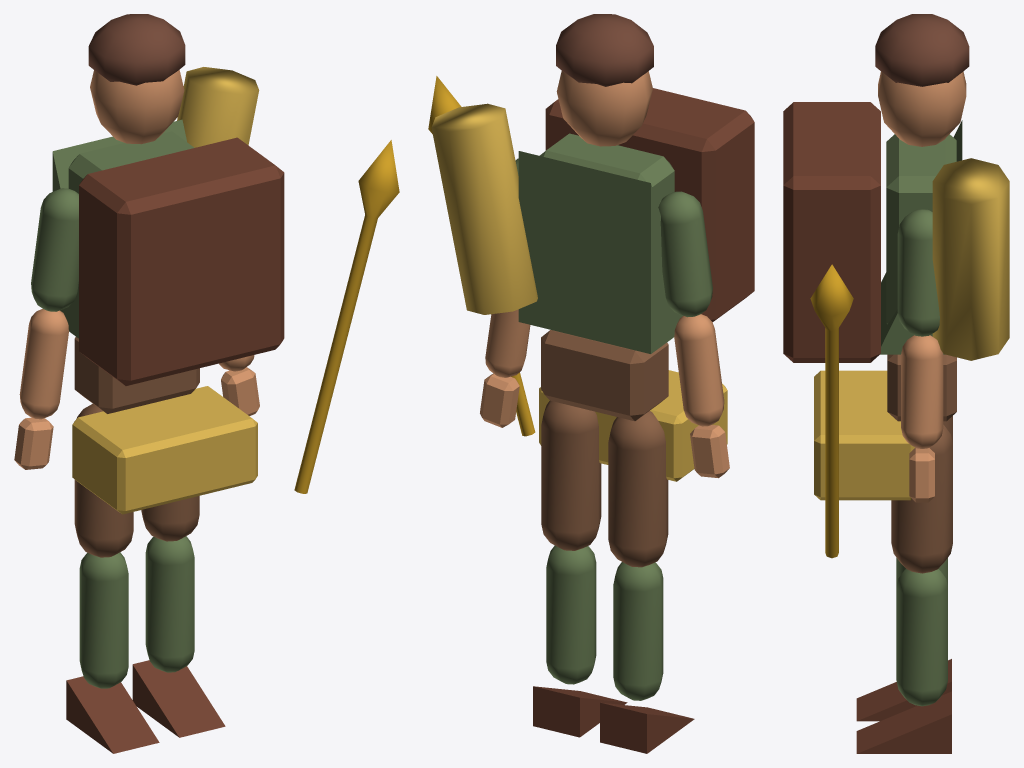
File: adventurer.rustic.glb
3 views of the same model, side by side, from view 1: azimuth 30°, elevation 25°; view 2: azimuth 150°, elevation 25°; view 3: azimuth 270°, elevation 25° (orthographic).
Parts seen in each view (by area): view 1: accessory.body, accessory.waist, shin.left, shin.right, accessory.main-hand, hair, accessory.back, upper-arm.left, head, foot.left, foot.right, forearm.left (+7 smaller); view 2: tunic, accessory.body, accessory.back, pelvis, thigh.left, thigh.right, shin.right, shin.left, hair, upper-arm.left, head, forearm.left (+8 smaller); view 3: accessory.body, accessory.back, accessory.waist, shin.right, hair, thigh.right, torso, accessory.main-hand, head, upper-arm.right, forearm.right, foot.right (+4 smaller).
Boxes of the visible parts, x1=… form: accessory.body: x1=79, y1=137, x2=284, y2=385; accessory.waist: x1=72, y1=386, x2=257, y2=514; shin.left: x1=79, y1=552, x2=128, y2=688; shin.right: x1=145, y1=536, x2=194, y2=672; accessory.main-hand: x1=294, y1=140, x2=399, y2=493; hair: x1=88, y1=14, x2=185, y2=85; accessory.back: x1=177, y1=67, x2=259, y2=147; upper-arm.left: x1=31, y1=188, x2=78, y2=311; head: x1=90, y1=70, x2=184, y2=144; foot.left: x1=66, y1=676, x2=159, y2=753; foot.right: x1=132, y1=660, x2=225, y2=737; forearm.left: x1=19, y1=309, x2=68, y2=419; tunic: x1=518, y1=151, x2=683, y2=353; accessory.body: x1=545, y1=88, x2=754, y2=321; accessory.back: x1=431, y1=103, x2=537, y2=314; pelvis: x1=541, y1=330, x2=668, y2=421; thigh.left: x1=608, y1=411, x2=668, y2=567; thigh.right: x1=541, y1=400, x2=601, y2=550; shin.right: x1=546, y1=545, x2=596, y2=684; shin.left: x1=613, y1=562, x2=663, y2=700; hair: x1=556, y1=14, x2=653, y2=86; upper-arm.left: x1=658, y1=191, x2=712, y2=317; head: x1=556, y1=71, x2=652, y2=146; forearm.left: x1=674, y1=314, x2=724, y2=426; accessory.body: x1=783, y1=102, x2=880, y2=362; accessory.back: x1=932, y1=158, x2=1009, y2=360; accessory.waist: x1=814, y1=370, x2=914, y2=500; shin.right: x1=896, y1=569, x2=947, y2=706; hair: x1=875, y1=14, x2=969, y2=86; thigh.right: x1=891, y1=424, x2=952, y2=573; torso: x1=886, y1=134, x2=956, y2=324; accessory.main-hand: x1=810, y1=264, x2=853, y2=558; head: x1=878, y1=71, x2=966, y2=146; upper-arm.right: x1=897, y1=209, x2=939, y2=336; forearm.right: x1=901, y1=335, x2=943, y2=448; foot.right: x1=856, y1=691, x2=951, y2=753.
Bounding box in the file's own units: 1.53 × 3.03 × 0.88.
